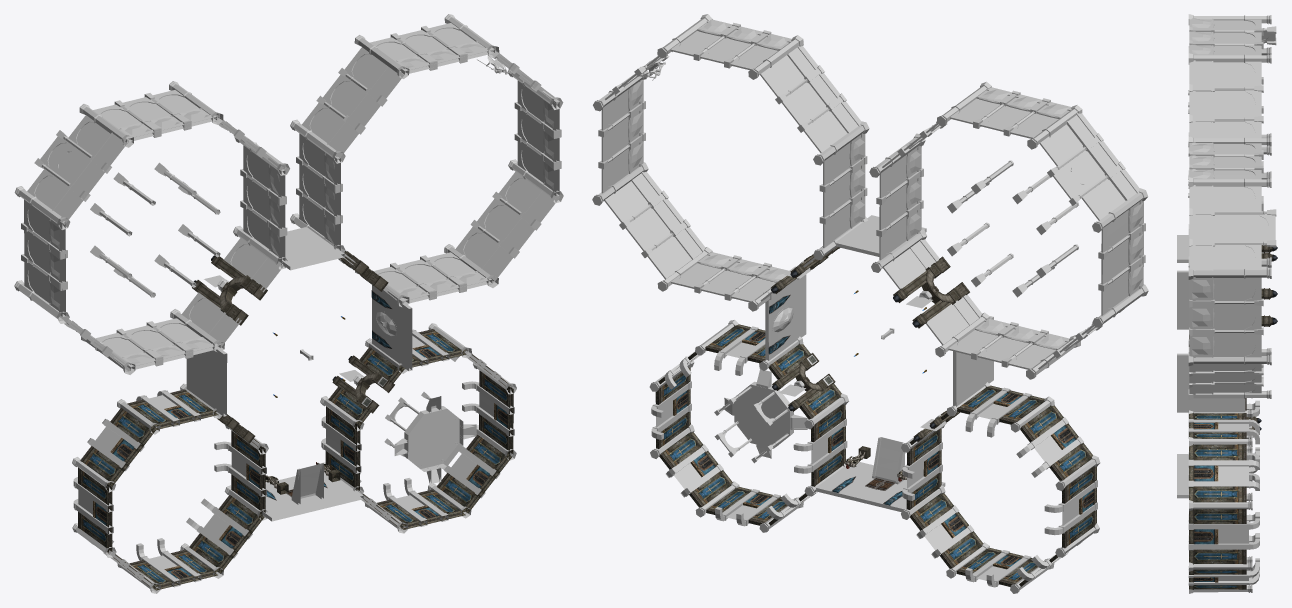
The picture shows the model from 3 angles, left to right: view 1: azimuth 30°, elevation 25°; view 2: azimuth 150°, elevation 25°; view 3: azimuth 270°, elevation 25°; orthographic projection. The views are drawn at different scales.
Visible parts, largest first — view 1: opt_obj_mora_arena01.001, obj_mora_arena01.038, obj_mora_arena02.028, opt_obj_mora_arena02.001, obj_mora_clanfgt_ring.006, obj_mora_clanfgt_post01.001, opt_obj_mora_castl_wal2.001, opt_obj_mora_castl_wal2.002, opt_obj_mora_castl_wal2.003, obj_mora_castl_wal2, obj_mora_stair2.001; view 2: obj_mora_arena01.038, opt_obj_mora_arena01.001, obj_mora_arena02.028, opt_obj_mora_arena02.001, obj_mora_clanfgt_ring.006, obj_mora_clanfgt_post01.001, opt_obj_mora_castl_wal2.001, opt_obj_mora_castl_wal2.003, opt_obj_mora_castl_wal2.002, obj_mora_stair2.001, obj_mora_castl_wal2; view 3: opt_obj_mora_arena01.001, opt_obj_mora_arena02.001, obj_mora_arena01.038, opt_obj_mora_castl_wal2.003, opt_obj_mora_castl_wal2.002, opt_obj_mora_castl_wal2.001, obj_mora_arena02.028, obj_mora_castl_wal2.
Boxes of the visible parts, x1=… form: opt_obj_mora_arena01.001: x1=290, y1=14, x2=563, y2=306; obj_mora_arena01.038: x1=14, y1=81, x2=289, y2=374; obj_mora_arena02.028: x1=72, y1=383, x2=268, y2=593; opt_obj_mora_arena02.001: x1=320, y1=323, x2=516, y2=533; obj_mora_clanfgt_ring.006: x1=384, y1=392, x2=476, y2=484; obj_mora_clanfgt_post01.001: x1=90, y1=162, x2=220, y2=297; opt_obj_mora_castl_wal2.001: x1=262, y1=472, x2=363, y2=521; opt_obj_mora_castl_wal2.002: x1=186, y1=348, x2=227, y2=416; opt_obj_mora_castl_wal2.003: x1=372, y1=285, x2=412, y2=371; obj_mora_castl_wal2: x1=282, y1=227, x2=344, y2=270; obj_mora_stair2.001: x1=291, y1=463, x2=323, y2=504; obj_mora_arena01.038: x1=869, y1=81, x2=1148, y2=379; opt_obj_mora_arena01.001: x1=592, y1=14, x2=869, y2=311; obj_mora_arena02.028: x1=901, y1=382, x2=1100, y2=593; opt_obj_mora_arena02.001: x1=649, y1=320, x2=848, y2=532; obj_mora_clanfgt_ring.006: x1=714, y1=369, x2=807, y2=463; obj_mora_clanfgt_post01.001: x1=947, y1=160, x2=1078, y2=297; opt_obj_mora_castl_wal2.001: x1=816, y1=462, x2=945, y2=512; opt_obj_mora_castl_wal2.003: x1=765, y1=274, x2=806, y2=360; opt_obj_mora_castl_wal2.002: x1=953, y1=316, x2=993, y2=406; obj_mora_stair2.001: x1=872, y1=437, x2=905, y2=484; obj_mora_castl_wal2: x1=836, y1=215, x2=926, y2=256; opt_obj_mora_arena01.001: x1=1188, y1=136, x2=1277, y2=399; opt_obj_mora_arena02.001: x1=1188, y1=409, x2=1261, y2=593; obj_mora_arena01.038: x1=1188, y1=14, x2=1277, y2=269; opt_obj_mora_castl_wal2.003: x1=1177, y1=353, x2=1245, y2=412; opt_obj_mora_castl_wal2.002: x1=1177, y1=270, x2=1189, y2=329; opt_obj_mora_castl_wal2.001: x1=1177, y1=454, x2=1188, y2=498; obj_mora_arena02.028: x1=1188, y1=327, x2=1259, y2=481; obj_mora_castl_wal2: x1=1177, y1=235, x2=1189, y2=262.
Size of the model in its own units: 23528 by 20761 by 4419.
